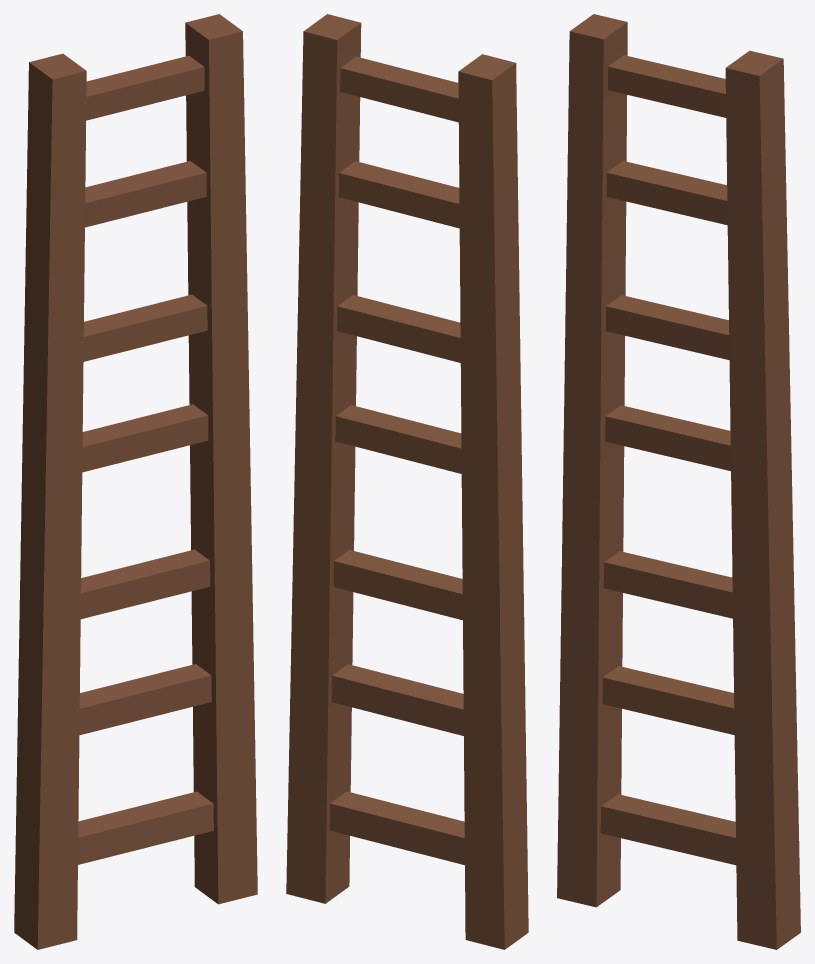
The model's file is Ladder_Big.fbx.
3 views of the same model, side by side, from view 1: azimuth 30°, elevation 25°; view 2: azimuth 150°, elevation 25°; view 3: azimuth 330°, elevation 25° (orthographic).
Visible parts, largest first — view 1: Ladder_Big; view 2: Ladder_Big; view 3: Ladder_Big.
Part boxes in pixels (<box>): Ladder_Big: <box>14,14,257,949</box>; Ladder_Big: <box>286,14,528,949</box>; Ladder_Big: <box>557,14,800,949</box>.
Bounding box in the file's own units: 63.94 × 242 × 12.85.
